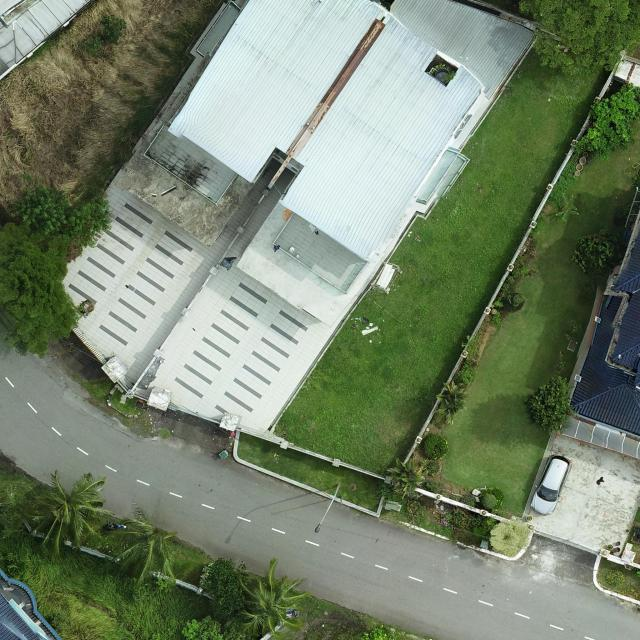Tree: (0, 222, 82, 360), (518, 0, 640, 77), (13, 468, 115, 558), (8, 172, 112, 248), (105, 502, 181, 589), (234, 557, 312, 640), (573, 82, 640, 162), (523, 374, 578, 438), (197, 555, 250, 620), (570, 228, 627, 276), (386, 456, 425, 499), (432, 380, 467, 425), (181, 614, 222, 640), (99, 13, 126, 44), (555, 192, 579, 222)
